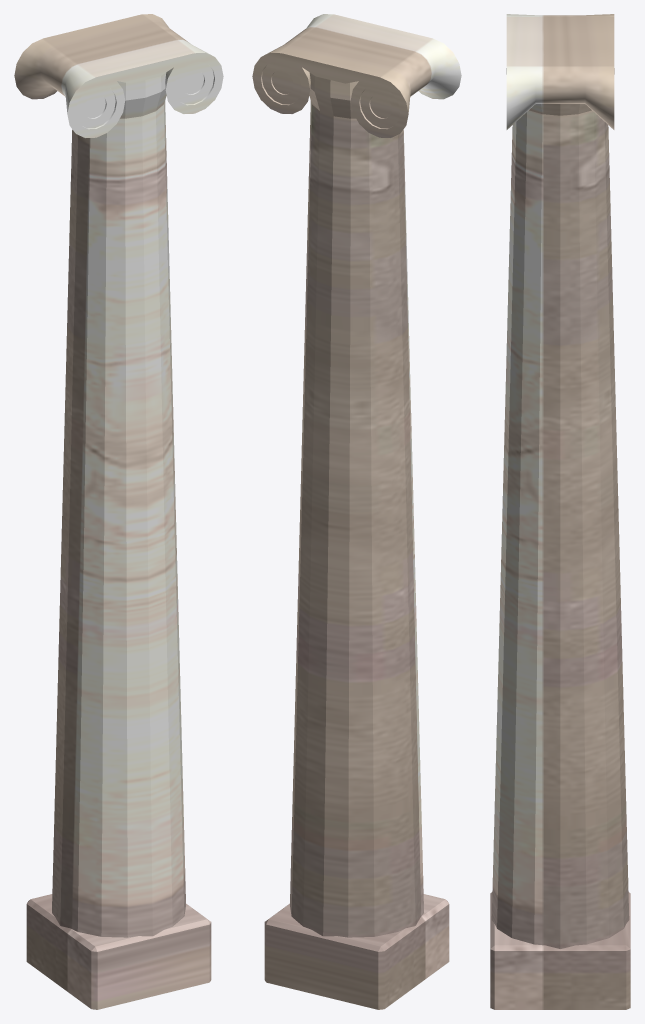
File: columnA.fbx
3 renders of one model, left to right at view 1: azimuth 30°, elevation 25°; view 2: azimuth 150°, elevation 25°; view 3: azimuth 270°, elevation 25°, orthographic.
Parts seen in each view (by area): view 1: Cylinder002; view 2: Cylinder002; view 3: Cylinder002.
Part boxes in pixels (bbox=[...]): Cylinder002: bbox=[14, 14, 223, 1009]; Cylinder002: bbox=[252, 14, 461, 1009]; Cylinder002: bbox=[490, 14, 630, 1009].
Bounding box in the file's own units: 255 × 1443 × 196.
